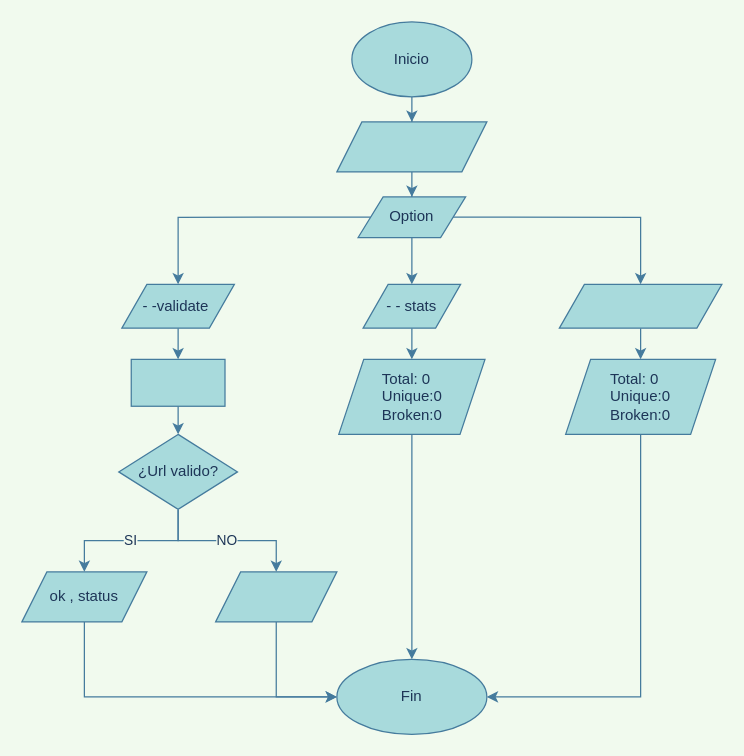
This 744x756 diagram has some shape labels left out. The centre of each missing label's shape, as x and y in pixels:
"- -validate - - stats" goes at [640,305].
"Array de objetos [{links}]" goes at [411,146].
"Fail, status" goes at [275,596].
"Petición HTTP" goes at [177,382].
